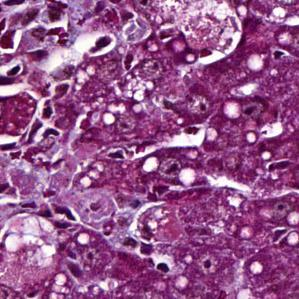ballooning: (154, 0, 244, 68), (0, 211, 59, 286)
